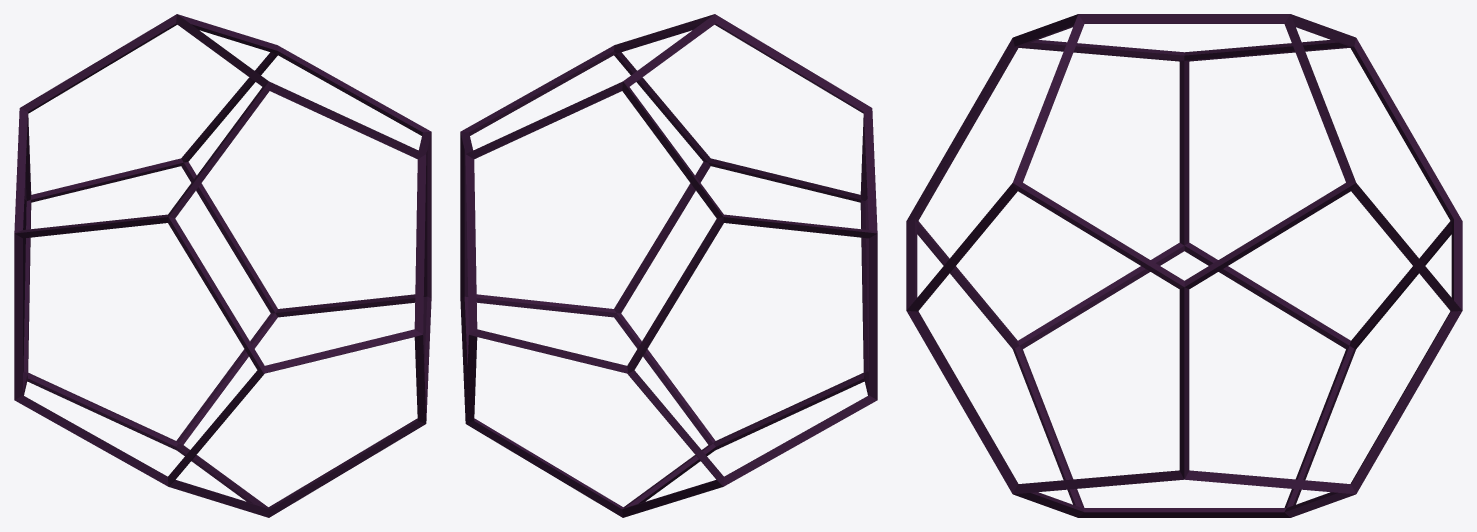
File: Dodecaedro_wireframe.glb
The picture shows the model from 3 angles, left to right: view 1: azimuth 30°, elevation 25°; view 2: azimuth 150°, elevation 25°; view 3: azimuth 270°, elevation 25°; orthographic projection. The views are drawn at different scales.
Parts seen in each view (by area): view 1: Solid; view 2: Solid; view 3: Solid.
Part boxes in pixels (box(x1,y1,x2,y2)): Solid: box(14, 14, 431, 517); Solid: box(460, 14, 877, 517); Solid: box(906, 14, 1462, 517).
Size of the model in its own units: 3.81 by 3.81 by 3.81.
